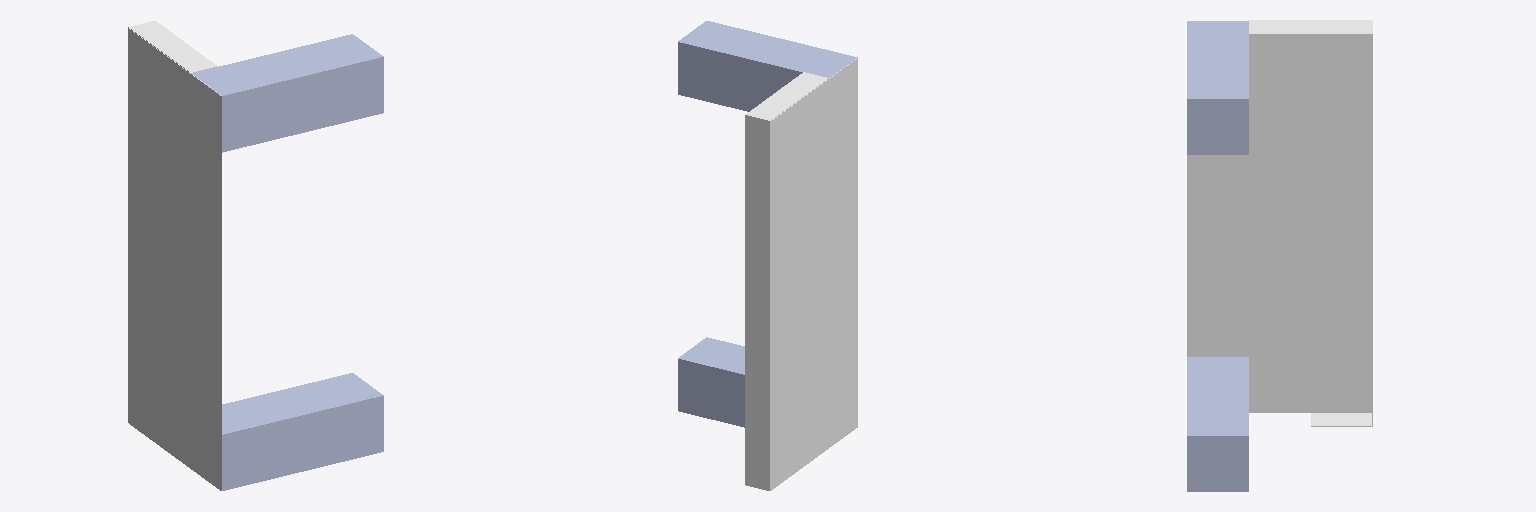
robot.urdf — layout1:
<?xml version="1.0" encoding="utf-8"?>
<!-- This URDF was automatically created by SolidWorks to URDF Exporter! Originally created by [author] ([email redacted]) 
     Commit Version: 1.6.0-4-g7f85cfe  Build Version: 1.6.7995.38578
     For more information, please see http://wiki.ros.org/sw_urdf_exporter -->
<robot
  name="layout1">
  <link
    name="base_link">
    <inertial>
      <origin
        xyz="1.3037 0.95352 1.9591"
        rpy="0 0 0" />
      <mass
        value="6005.2" />
      <inertia
        ixx="55067"
        ixy="-21.243"
        ixz="-6.5481"
        iyy="5014"
        iyz="-17.119"
        izz="59070" />
    </inertial>
    <visual>
      <origin
        xyz="0 0 0"
        rpy="0 0 0" />
      <geometry>
        <mesh
          filename="package://layout1/meshes/base_link.STL" />
      </geometry>
      <material
        name="">
        <color
          rgba="1 1 1 1" />
      </material>
    </visual>
    <collision>
      <origin
        xyz="0 0 0"
        rpy="0 0 0" />
      <geometry>
        <mesh
          filename="package://layout1/meshes/base_link.STL" />
      </geometry>
    </collision>
  </link>
  <link
    name="link1">
    <inertial>
      <origin
        xyz="0.5 3.5 1.5"
        rpy="0 0 0" />
      <mass
        value="6000" />
      <inertia
        ixx="59000"
        ixy="3.5974E-10"
        ixz="1.7962E-12"
        iyy="5000"
        iyz="-2.3081E-12"
        izz="55000" />
    </inertial>
    <visual>
      <origin
        xyz="0 0 0"
        rpy="0 0 0" />
      <geometry>
        <mesh
          filename="package://layout1/meshes/link1.STL" />
      </geometry>
      <material
        name="">
        <color
          rgba="0.79216 0.81961 0.93333 1" />
      </material>
    </visual>
    <collision>
      <origin
        xyz="0 0 0"
        rpy="0 0 0" />
      <geometry>
        <mesh
          filename="package://layout1/meshes/link1.STL" />
      </geometry>
    </collision>
  </link>
  <joint
    name="j1"
    type="fixed">
    <origin
      xyz="-0.19515527927728 -2.45999999999998 -2.54363733447166"
      rpy="1.5707963267949 0 1.5707963267949" />
    <parent
      link="base_link" />
    <child
      link="link1" />
    <axis
      xyz="0 0 0" />
  </joint>
</robot>

--- Render facts (derived) ---
3 views of the same robot in one strip: view 1: azimuth 30°, elevation 25°; view 2: azimuth 150°, elevation 25°; view 3: azimuth 270°, elevation 25° (orthographic).
Robot: layout1 — 2 links, 1 joints (1 fixed); root link base_link; default pose: every joint at zero.
Links seen in each view (by area): view 1: base_link, link1; view 2: base_link, link1; view 3: base_link, link1.
Link boxes in pixels (<box>): base_link: <box>128,21,221,490</box>; link1: <box>191,34,383,490</box>; base_link: <box>745,58,857,490</box>; link1: <box>678,21,857,427</box>; base_link: <box>1187,20,1372,426</box>; link1: <box>1187,21,1248,491</box>.
Size in the robot's own frame: 3.01 by 3.01 by 7.02 metres.
Meshes: 2 distinct files referenced, 2 mesh visuals loaded (2 binary STL).